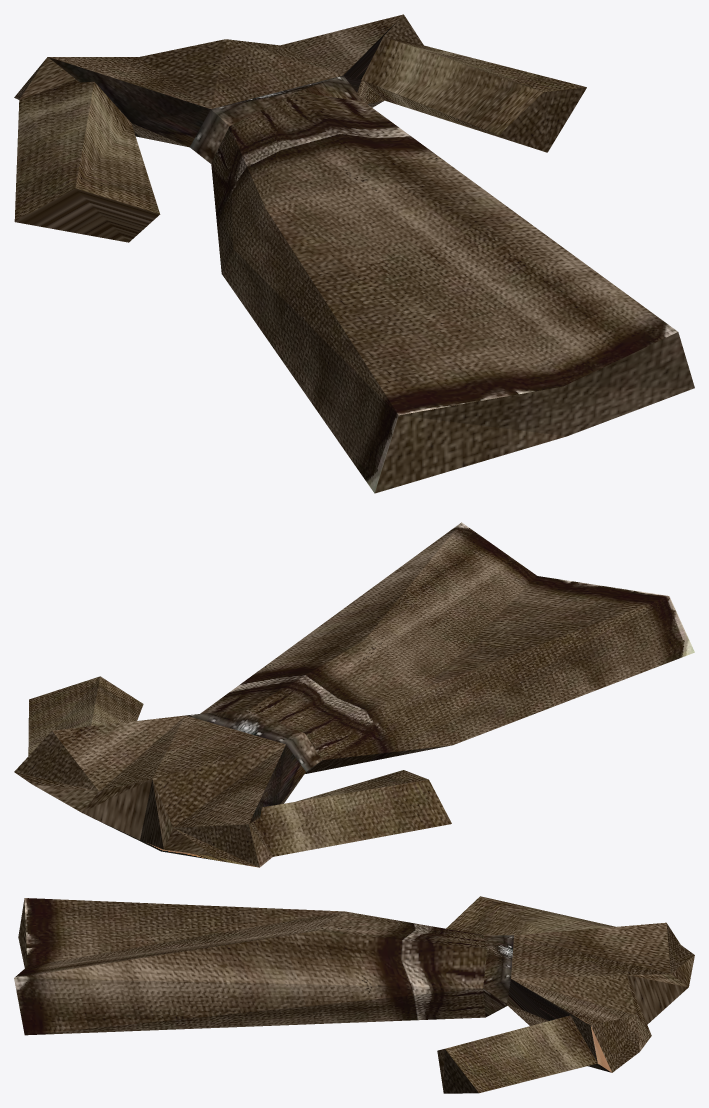
The model's file is LUZNA_SUKNIA.glb.
3 renders of one model, top to bottom at view 1: azimuth 30°, elevation 25°; view 2: azimuth 150°, elevation 25°; view 3: azimuth 270°, elevation 25°, orthographic. The views are drawn at different scales.
Parts seen in each view (by area): view 1: LUZNA_SUKNIA; view 2: LUZNA_SUKNIA; view 3: LUZNA_SUKNIA.
Part boxes in pixels (bbox=[...]): LUZNA_SUKNIA: bbox=[14, 14, 694, 493]; LUZNA_SUKNIA: bbox=[14, 522, 694, 867]; LUZNA_SUKNIA: bbox=[14, 896, 694, 1093].
Size of the model in its own units: 0.6414 by 0.1382 by 0.94.
1 material, 1 textured.
